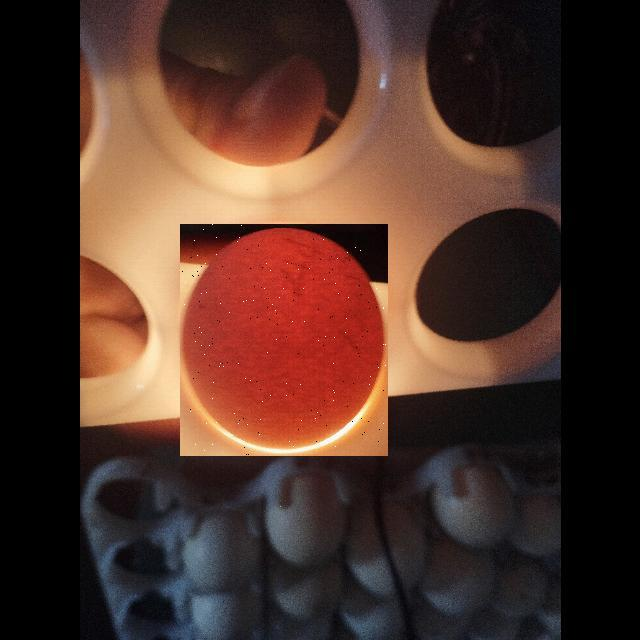A - Good: (180, 224, 388, 456)
